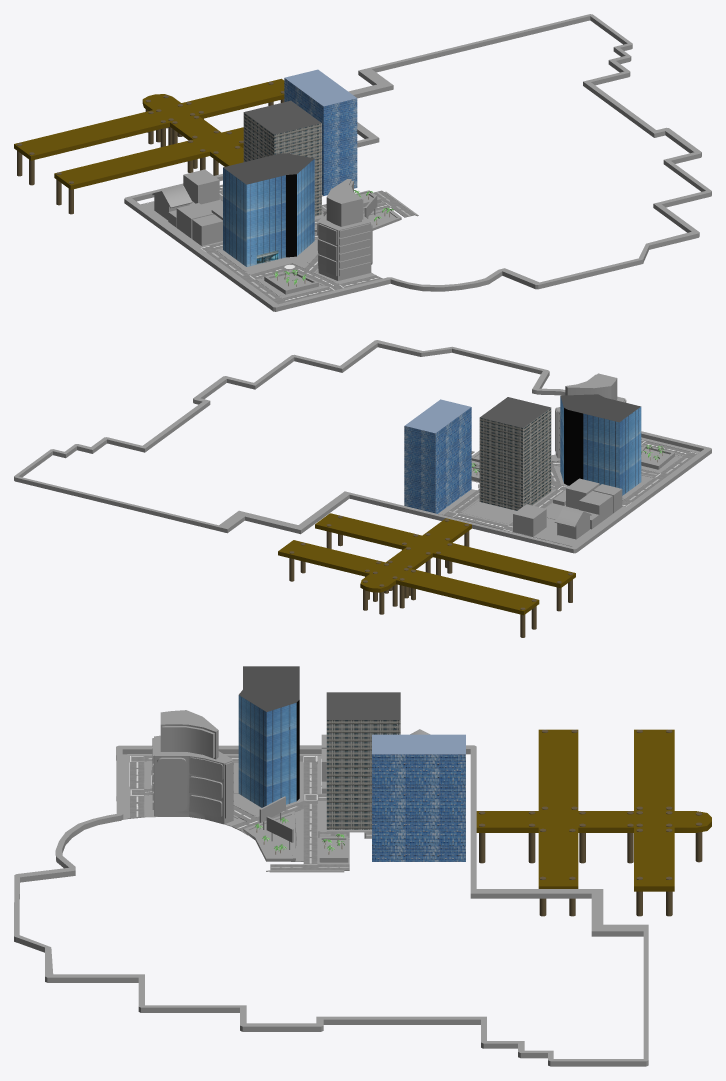
The model's file is City East.fbx.
3 views of the same model, one above another, from view 1: azimuth 30°, elevation 25°; view 2: azimuth 150°, elevation 25°; view 3: azimuth 270°, elevation 25° (orthographic). The views are drawn at different scales.
Visible parts, largest first — view 1: pCube567, Pizza_Shop2, CarPark_3, Advertisemnt_3_Reference2, pCube708, Broken_House2, pCube456, pCube612, pCube508, pCube489, pCube569, pCube463; view 2: pCube567, pCube708, Pizza_Shop2, CarPark_3, Advertisemnt_3_Reference2, Broken_House2, pCube612, pCube489, pCube532, pCube569, Car_Park_reference_4, pCube508 (+1 smaller); view 3: pCube567, CarPark_3, Pizza_Shop2, Advertisemnt_3_Reference2, pCube708, pCube543, Advsertisemnt_2_Reference2, pCube463, pCube512.
Part boxes in pixels (box(x1,y1,x2,y2)): pCube567: box(14, 14, 711, 311); Pizza_Shop2: box(223, 153, 314, 266); CarPark_3: box(284, 69, 357, 195); Advertisemnt_3_Reference2: box(317, 179, 372, 280); pCube708: box(243, 100, 321, 216); Broken_House2: box(183, 169, 219, 204); pCube456: box(192, 214, 222, 245); pCube612: box(152, 185, 192, 220); pCube508: box(264, 270, 318, 294); pCube489: box(176, 203, 213, 238); pCube569: box(206, 250, 286, 304); pCube463: box(282, 275, 382, 301); pCube567: box(14, 340, 711, 615); pCube708: box(479, 397, 551, 510); Pizza_Shop2: box(560, 394, 641, 495); CarPark_3: box(404, 399, 471, 513); Advertisemnt_3_Reference2: box(555, 373, 626, 458); Broken_House2: box(513, 504, 546, 536); pCube612: box(554, 506, 591, 539); pCube489: box(579, 491, 612, 523); pCube532: box(566, 478, 599, 509); pCube569: box(623, 451, 697, 502); Car_Park_reference_4: box(464, 503, 514, 523); pCube508: box(641, 445, 674, 469); pCube567: box(14, 729, 711, 1066); CarPark_3: box(372, 734, 465, 861); Pizza_Shop2: box(238, 666, 299, 807); Advertisemnt_3_Reference2: box(152, 710, 233, 824); pCube708: box(326, 692, 400, 829); pCube543: box(303, 755, 317, 864); Advsertisemnt_2_Reference2: box(243, 811, 296, 861); pCube463: box(130, 762, 144, 818); pCube512: box(319, 836, 348, 862).
Bounding box in the file's own units: 135 × 26.82 × 120.
Materials: 24 (16 with a texture image).
